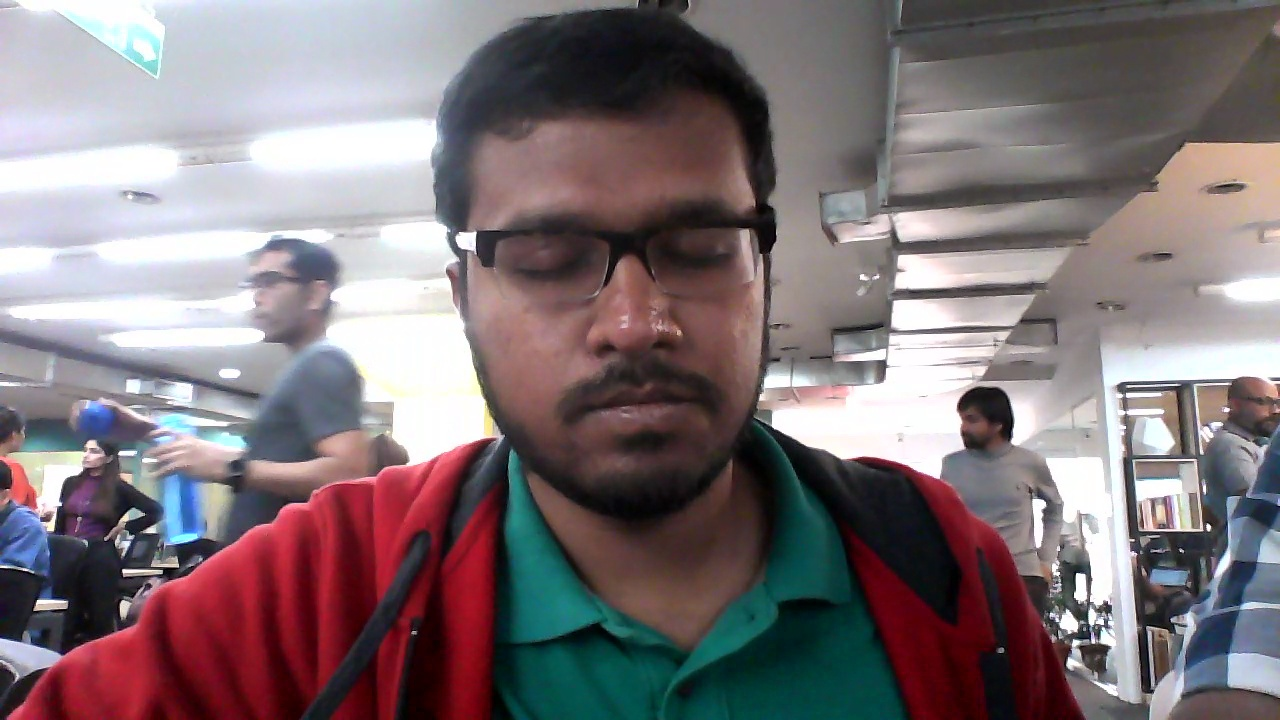closed: (430, 5, 793, 539)
